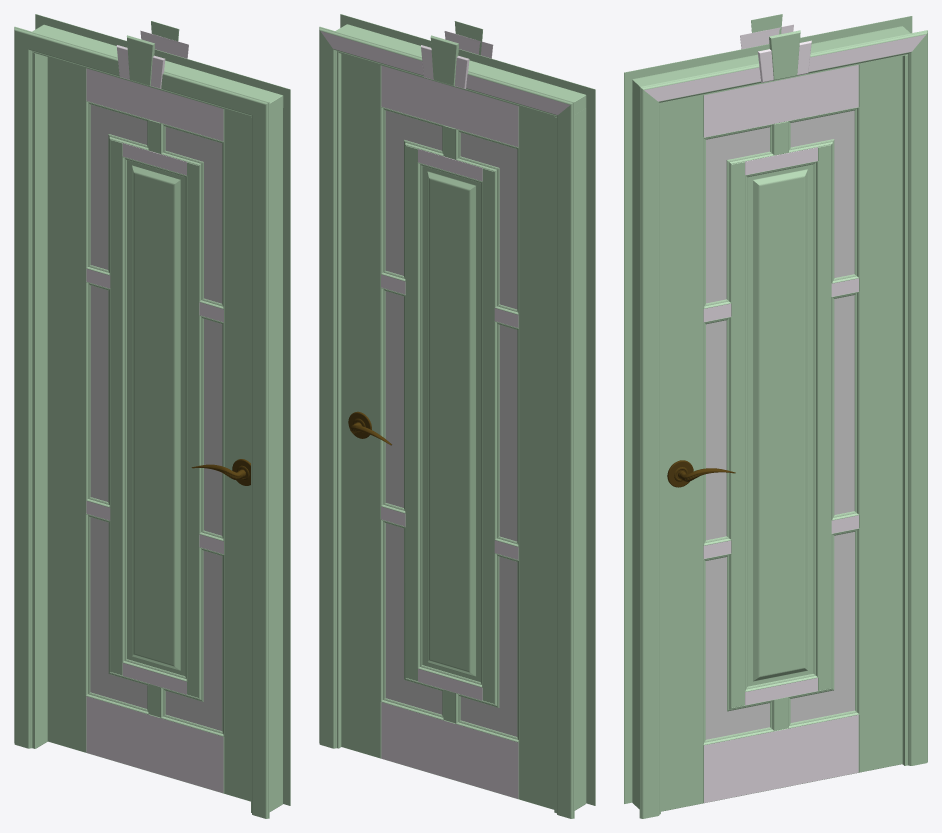
Rendered from Door 1.obj.
3 views of the same model, side by side, from view 1: azimuth 30°, elevation 25°; view 2: azimuth 210°, elevation 25°; view 3: azimuth 270°, elevation 25° (orthographic). The views are drawn at different scales.
Size of the model in its own units: 430 by 2103 by 764.
